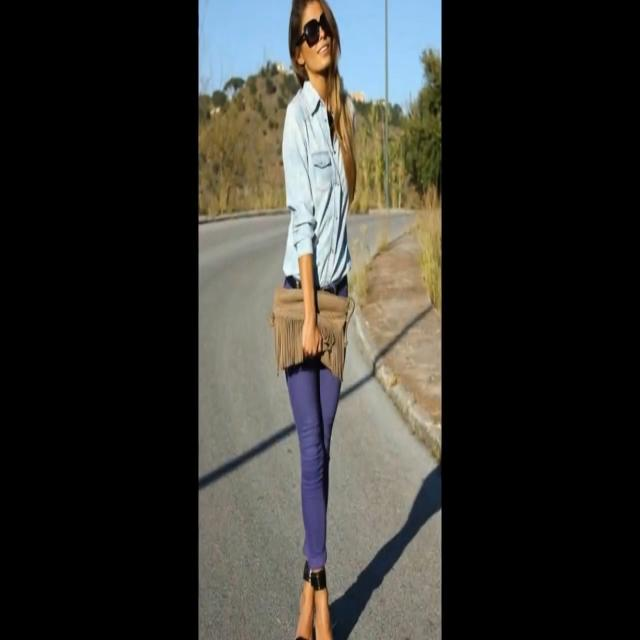shirt: (282, 76, 356, 292)
